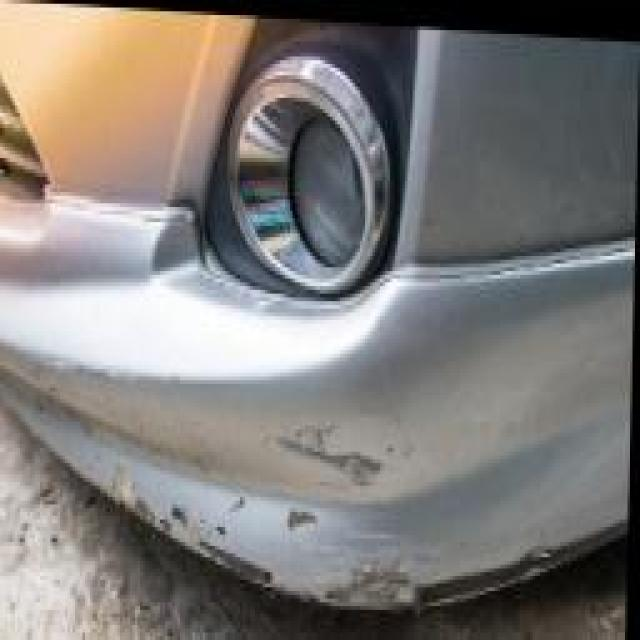Bumper: (55, 248, 544, 628)
